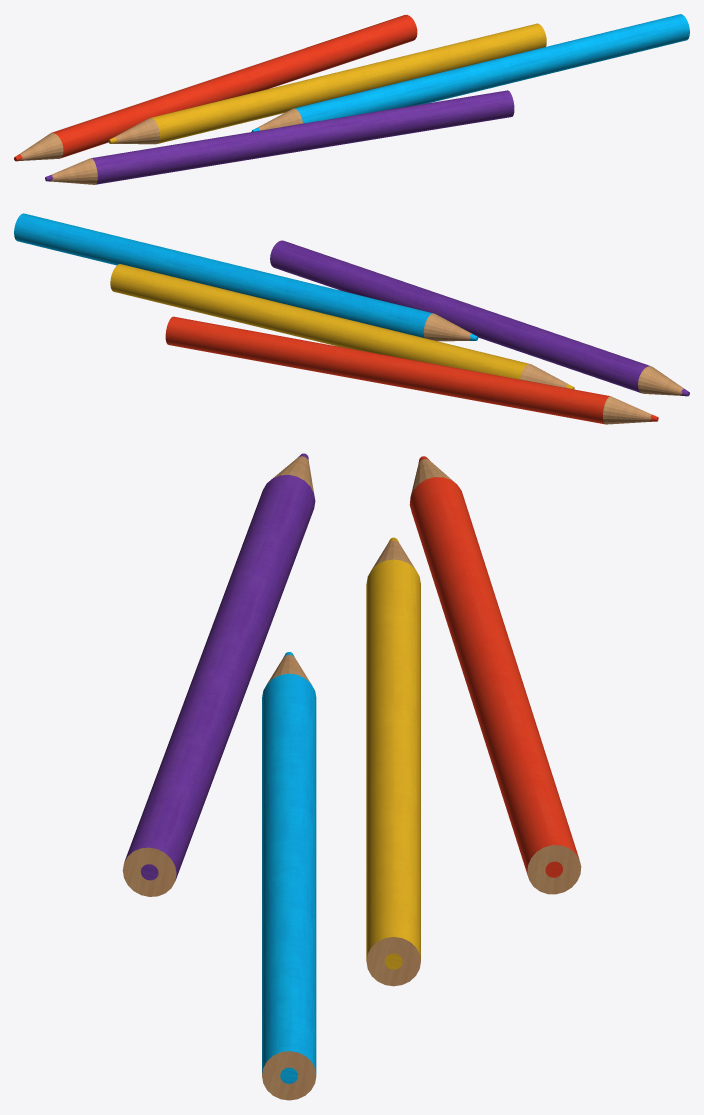
Rendered from Pencils.fbx.
The picture shows the model from 3 angles, top to bottom: view 1: azimuth 30°, elevation 25°; view 2: azimuth 150°, elevation 25°; view 3: azimuth 270°, elevation 25°; orthographic projection. The views are drawn at different scales.
Parts seen in each view (by area): view 1: Pencils; view 2: Pencils; view 3: Pencils.
Boxes of the visible parts, x1=… form: Pencils: x1=14, y1=14, x2=689, y2=184; Pencils: x1=14, y1=213, x2=689, y2=424; Pencils: x1=122, y1=453, x2=581, y2=1100.
Bounding box in the file's own units: 26.86 × 1.12 × 8.4.
